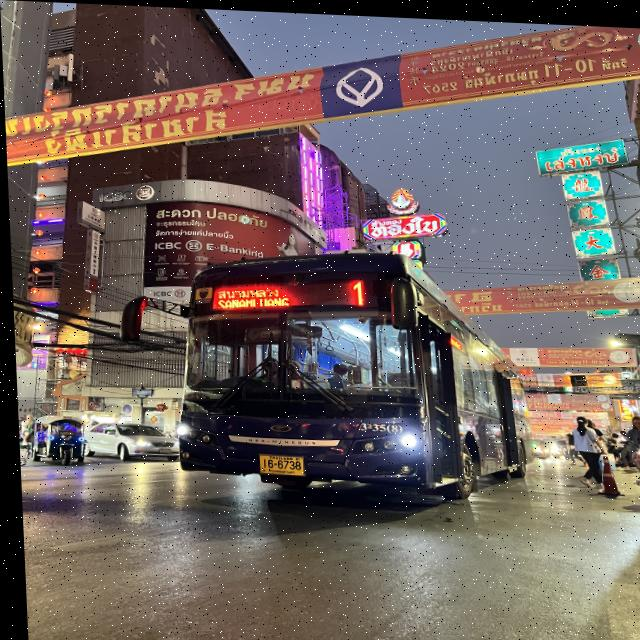Bus Line Number: (329, 267, 384, 310)
Bus Side Number: (352, 416, 399, 430)
Destination Sign: (204, 278, 291, 307)
TSB-Bus: (172, 248, 524, 499)
